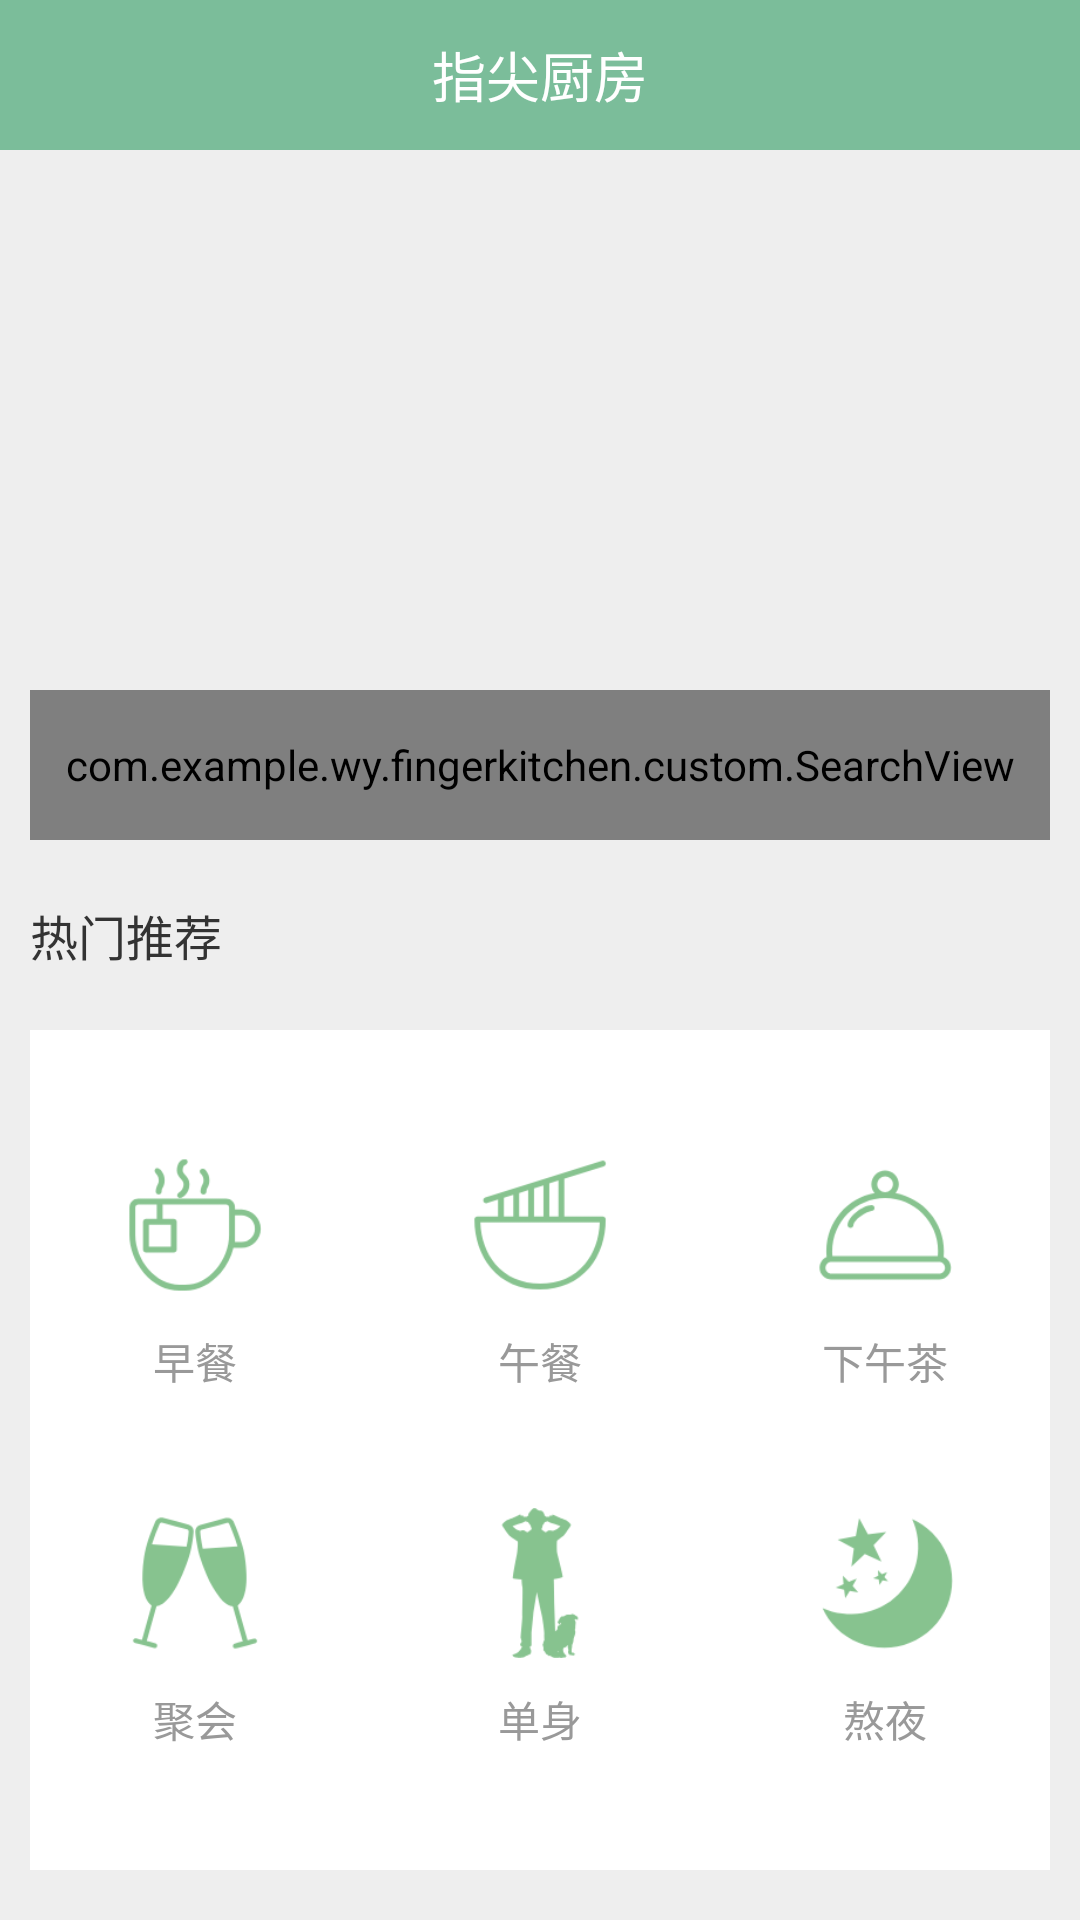

Locate icon controls on the screen. Image size 1080x1920, boxes as (x1, y1, x2, y2).
aoye: (823, 1519, 953, 1648)
breakfast: (129, 1159, 261, 1291)
lunch: (474, 1160, 606, 1290)
party: (133, 1517, 257, 1649)
